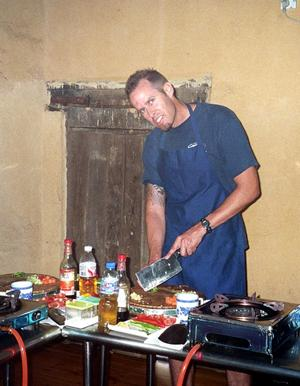person: (126, 67, 262, 302)
